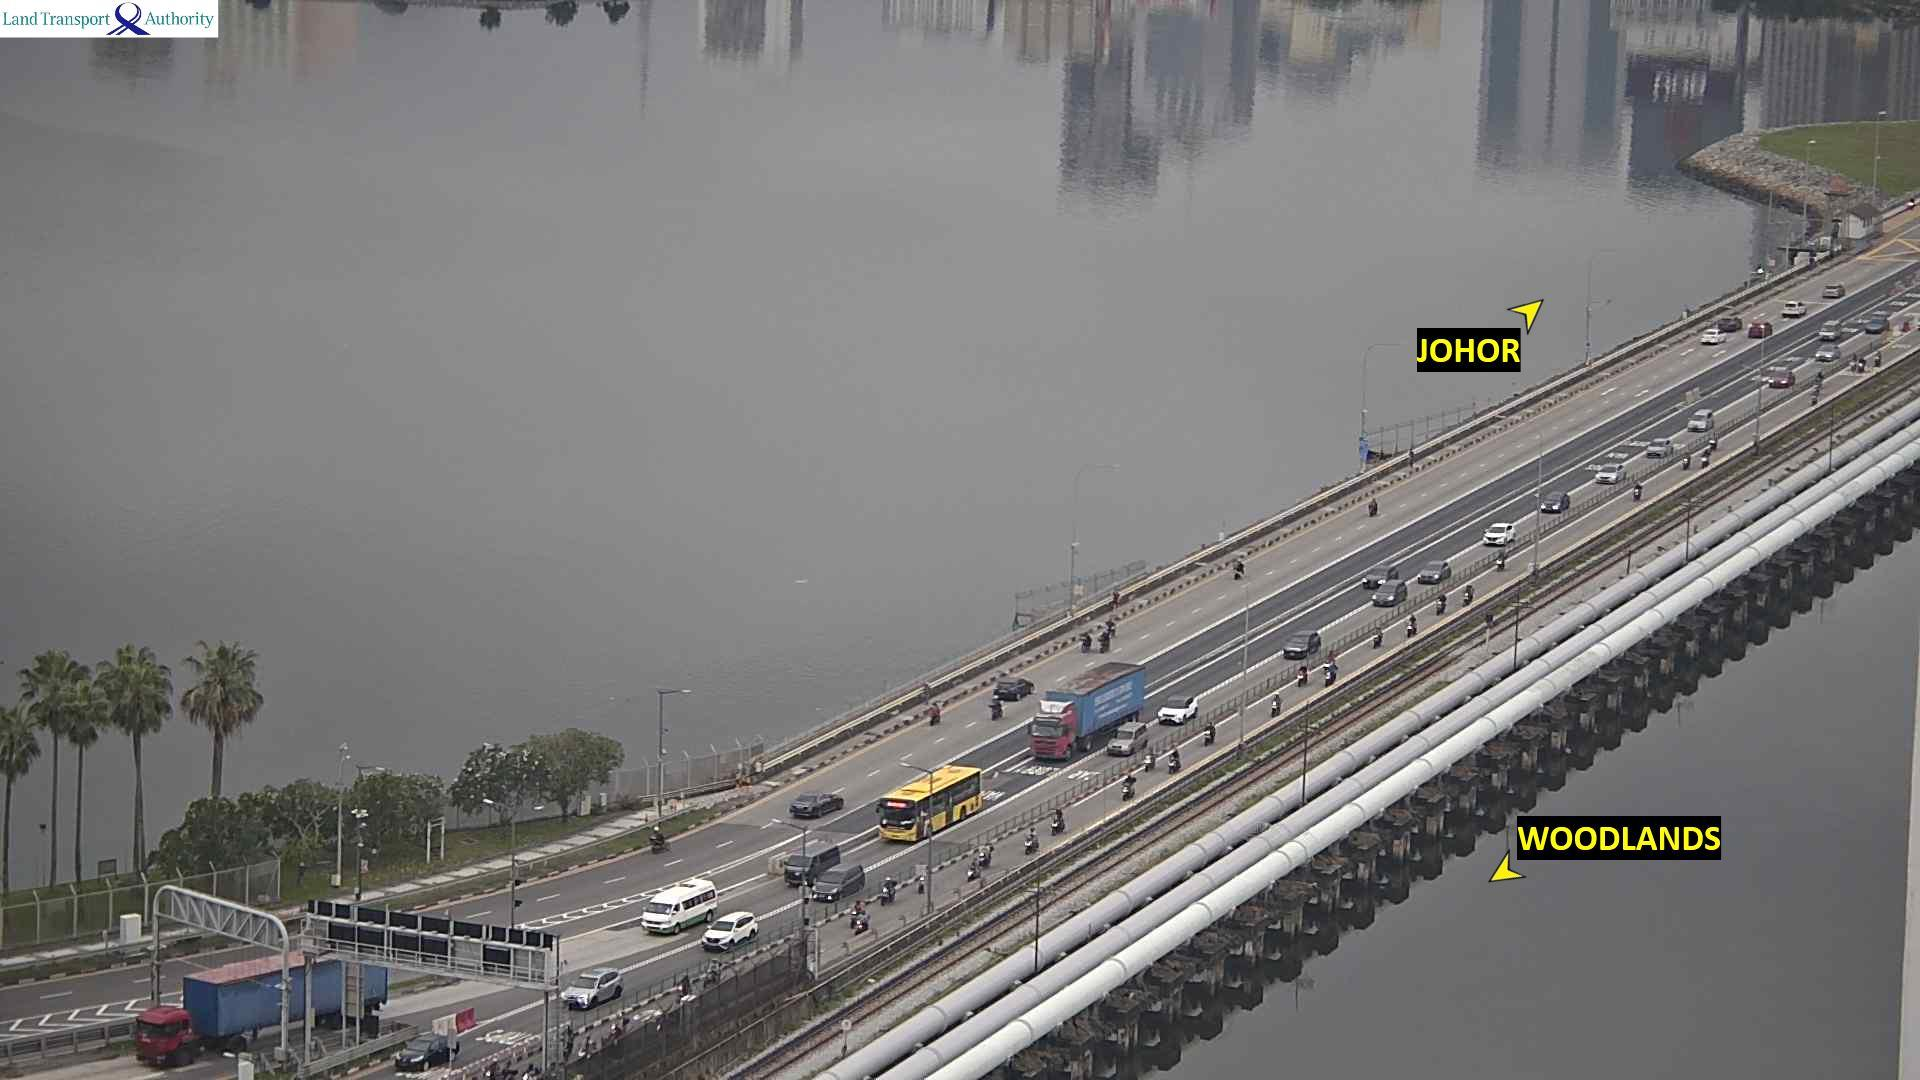vehicle-causeway-johor: (789, 794, 843, 818), (994, 678, 1034, 699), (1783, 301, 1811, 318), (1701, 328, 1727, 345), (650, 831, 670, 853), (1749, 320, 1771, 339), (986, 698, 1002, 721), (1718, 316, 1741, 331), (1234, 560, 1249, 582), (1822, 284, 1845, 297), (1369, 498, 1381, 517), (931, 700, 940, 723)
vehicle-causeway-singapore: (123, 953, 385, 1063), (1030, 662, 1145, 757), (882, 769, 981, 841), (637, 881, 719, 934), (562, 967, 624, 1011), (785, 843, 848, 885), (394, 1038, 472, 1071), (704, 915, 762, 951), (811, 868, 868, 903), (1158, 692, 1197, 727), (1283, 630, 1320, 661), (1371, 580, 1406, 605), (1416, 559, 1451, 584), (1482, 524, 1515, 547), (484, 1058, 518, 1079), (1362, 567, 1396, 587), (1687, 409, 1714, 431), (1596, 464, 1626, 484), (1770, 365, 1795, 389), (847, 905, 869, 931), (1542, 489, 1569, 510), (1865, 314, 1890, 335), (1646, 436, 1672, 455), (1820, 319, 1842, 340), (880, 877, 895, 903), (1815, 343, 1838, 360), (1025, 825, 1039, 852), (1324, 659, 1337, 688), (1122, 771, 1135, 798), (1052, 807, 1065, 832), (1204, 720, 1216, 744), (1406, 613, 1418, 636), (1435, 591, 1445, 615), (1371, 628, 1383, 647), (1146, 746, 1156, 767), (1633, 479, 1643, 500), (1171, 749, 1180, 773), (1271, 694, 1280, 717), (1495, 550, 1506, 568), (984, 844, 993, 864), (1465, 583, 1474, 603), (1858, 356, 1867, 372), (1701, 450, 1709, 467), (1811, 388, 1818, 405), (1298, 665, 1305, 682), (1816, 371, 1825, 385), (1873, 349, 1880, 365), (1681, 452, 1689, 467), (1851, 355, 1857, 372)
